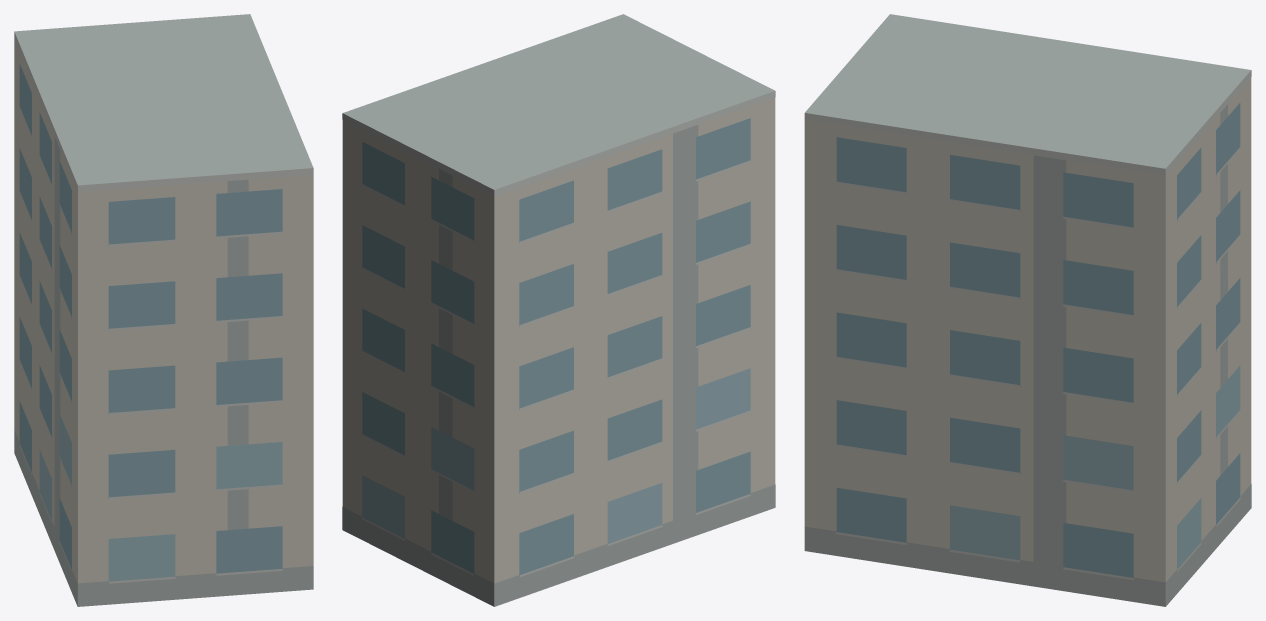
Rendered from residential-15c1810a-60fe-46d3-aa58-d28d989d4152.glb.
3 renders of one model, left to right at view 1: azimuth 30°, elevation 25°; view 2: azimuth 150°, elevation 25°; view 3: azimuth 270°, elevation 25°, orthographic. The views are drawn at different scales.
Parts seen in each view (by area): view 1: residential-15c1810a-60fe-46d3-aa58-d28d989d4152.tmp; view 2: residential-15c1810a-60fe-46d3-aa58-d28d989d4152.tmp; view 3: residential-15c1810a-60fe-46d3-aa58-d28d989d4152.tmp.
Boxes of the visible parts, x1,y1,x2,y2 form: residential-15c1810a-60fe-46d3-aa58-d28d989d4152.tmp: [14, 14, 313, 606]; residential-15c1810a-60fe-46d3-aa58-d28d989d4152.tmp: [342, 14, 775, 606]; residential-15c1810a-60fe-46d3-aa58-d28d989d4152.tmp: [804, 14, 1251, 606].
Size of the model in its own units: 11.56 by 15.25 by 14.1.
